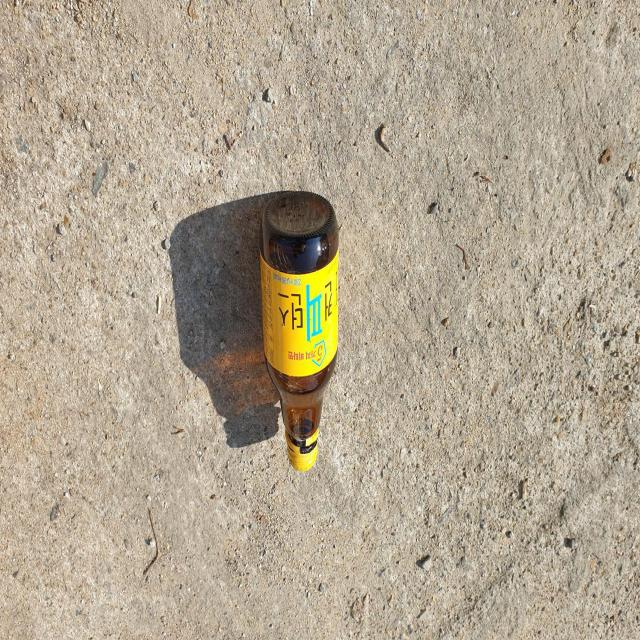glass: (260, 190, 339, 470)
